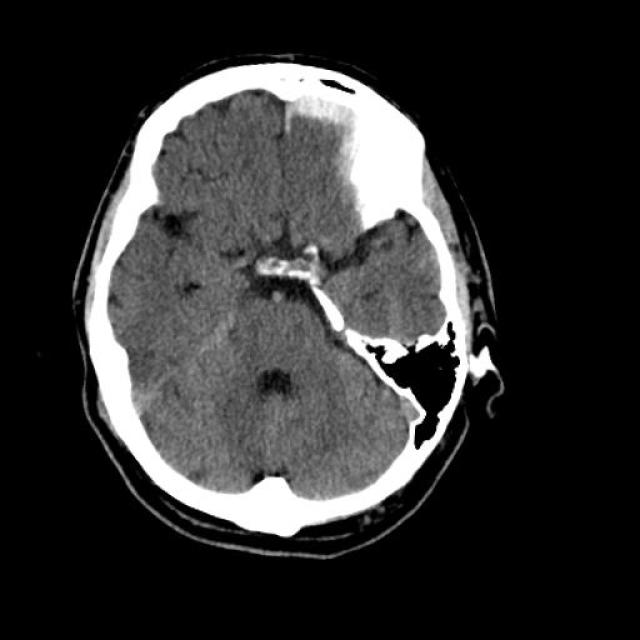Subdural: (264, 78, 390, 224)
